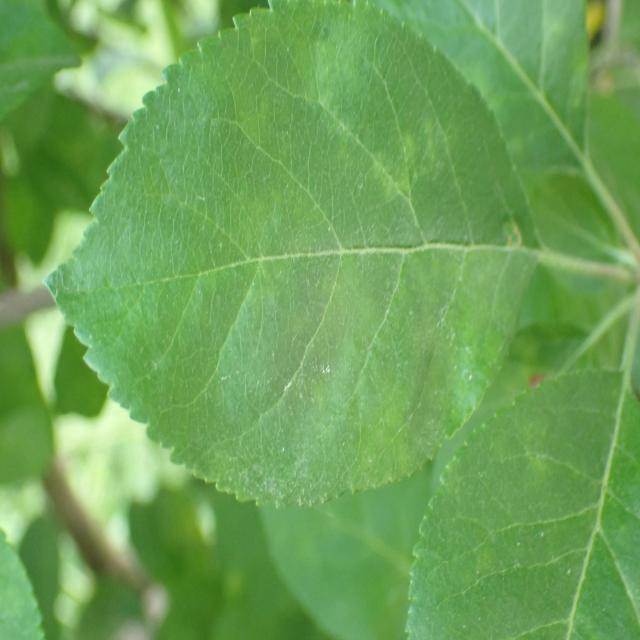scab: (162, 83, 548, 487)
